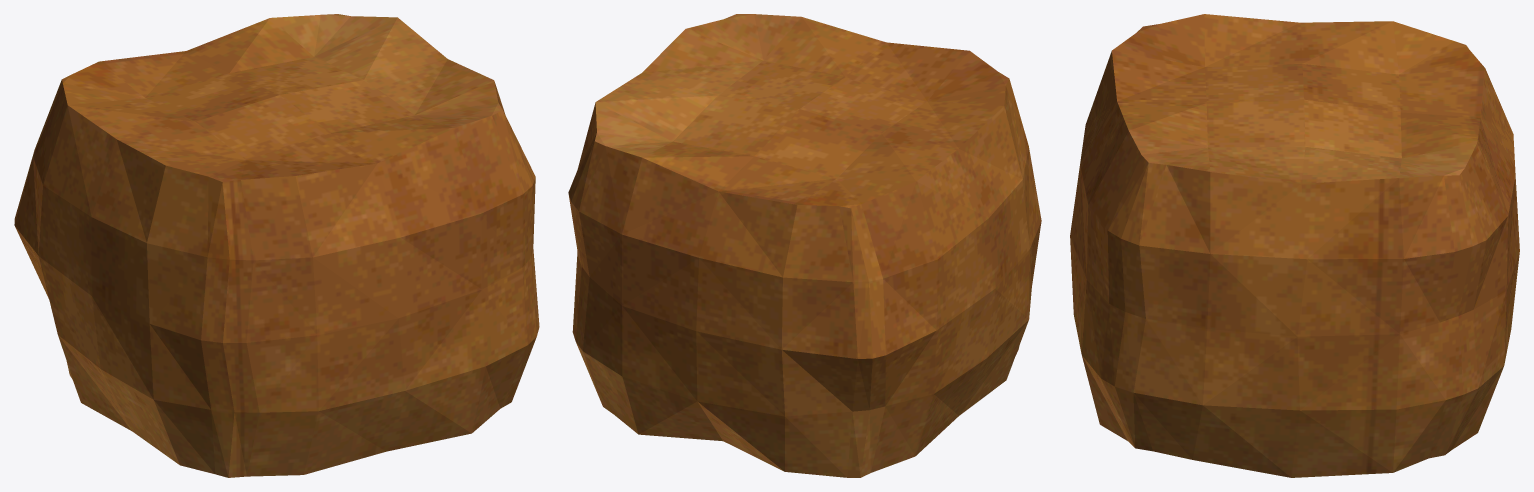
Rendered from Almohadon_puff.fbx.
The picture shows the model from 3 angles, left to right: view 1: azimuth 30°, elevation 25°; view 2: azimuth 150°, elevation 25°; view 3: azimuth 270°, elevation 25°; orthographic projection. The views are drawn at different scales.
Parts seen in each view (by area): view 1: Almohadon_Puff; view 2: Almohadon_Puff; view 3: Almohadon_Puff.
Part boxes in pixels (left/top/right/bottom): Almohadon_Puff: left=14, top=14, right=539, bottom=477; Almohadon_Puff: left=568, top=14, right=1041, bottom=477; Almohadon_Puff: left=1070, top=14, right=1519, bottom=477.
Bounding box in the file's own units: 46.51 × 35.58 × 46.37.
